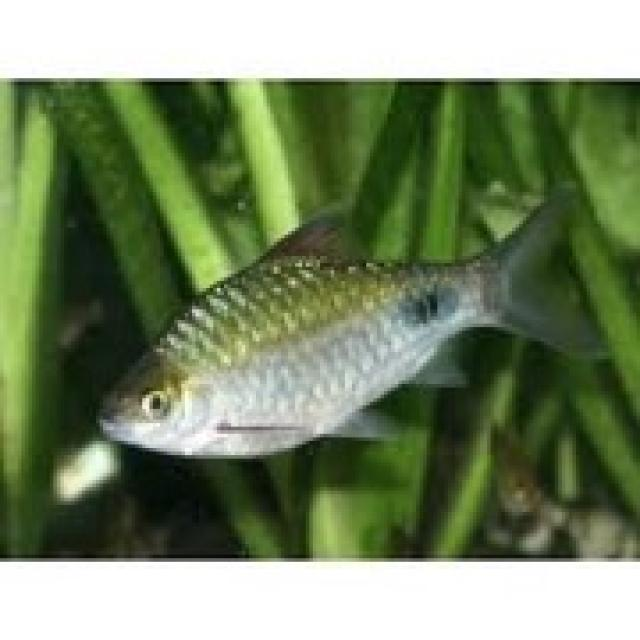Black-Spotted-Barb: (102, 164, 640, 486)
